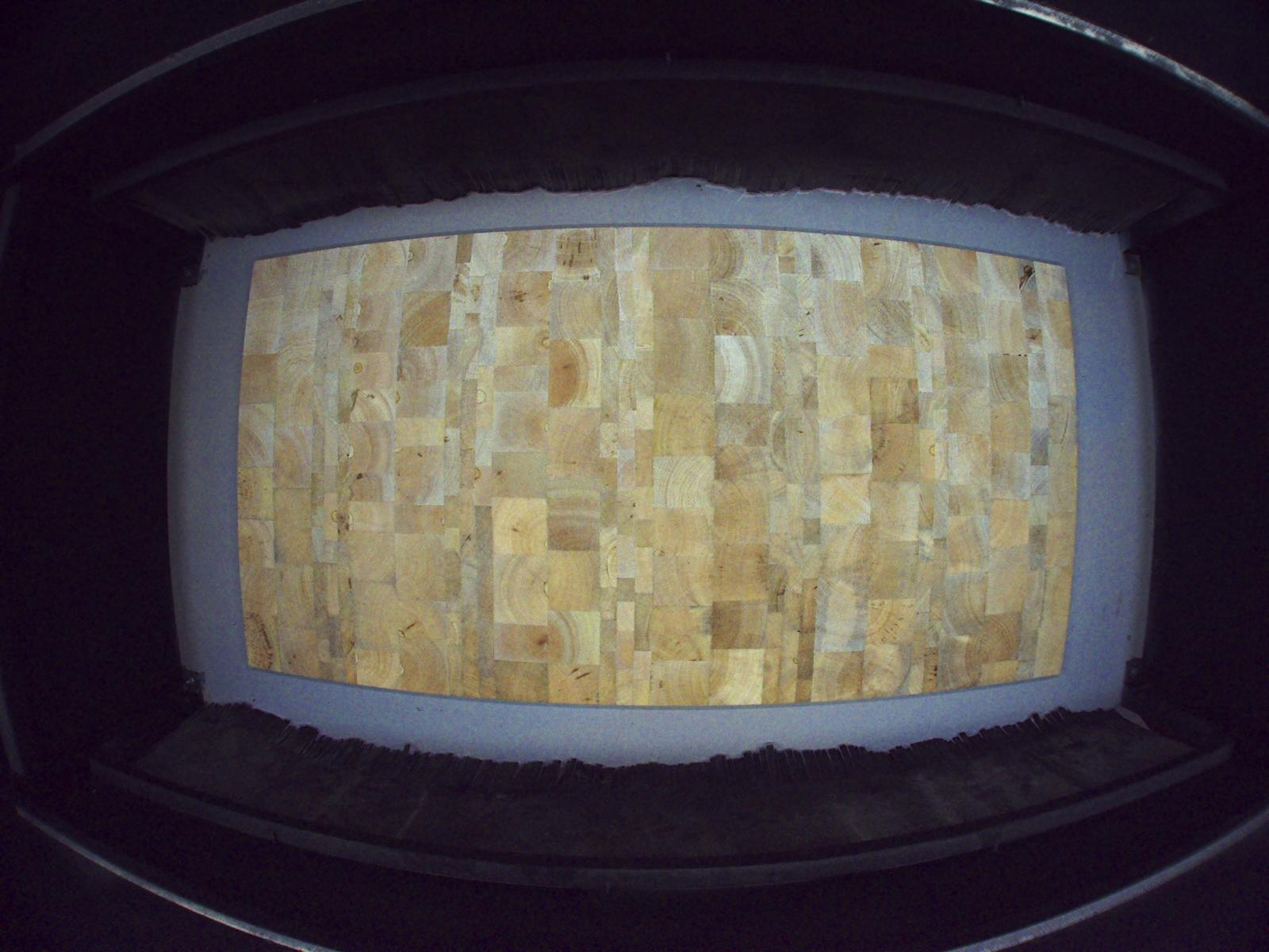nudillo: (1018, 263, 1036, 292)
